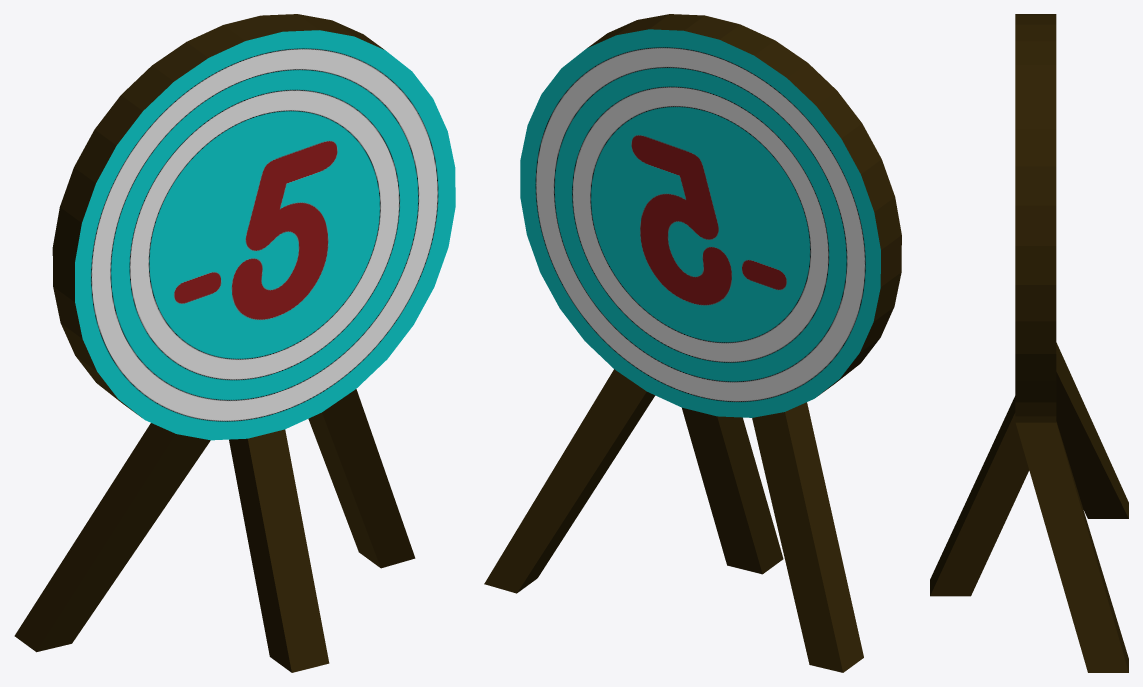
The model's file is renk10.fbx.
3 renders of one model, left to right at view 1: azimuth 30°, elevation 25°; view 2: azimuth 150°, elevation 25°; view 3: azimuth 270°, elevation 25°, orthographic. The views are drawn at different scales.
Visible parts, largest first — view 1: Cylinder; view 2: Cylinder; view 3: Cylinder.
Boxes of the visible parts, x1,y1,x2,y2 form: Cylinder: [14, 14, 455, 672]; Cylinder: [484, 14, 901, 672]; Cylinder: [930, 14, 1128, 672].
Size of the model in its own units: 199 by 299 by 97.2.
2 materials, 1 textured.
